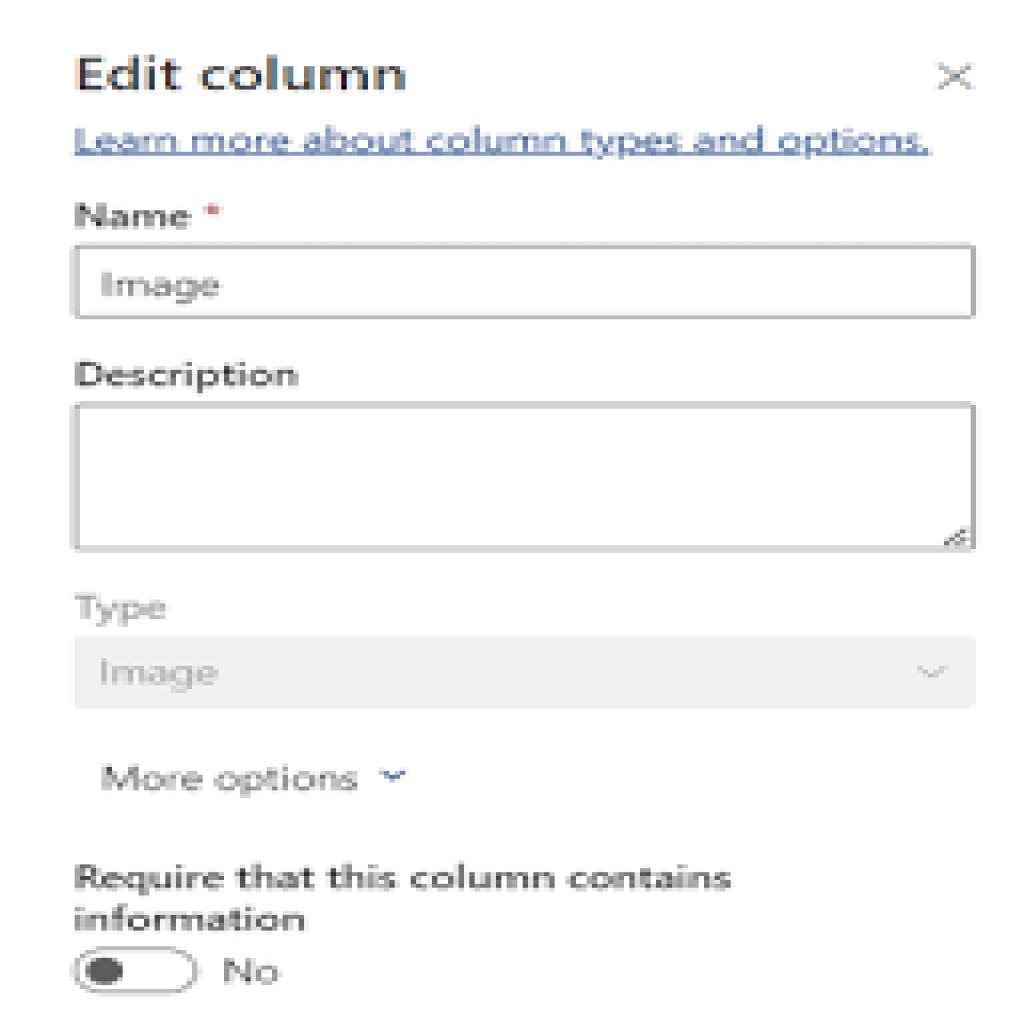dropdown: (72, 637, 976, 712)
input: (80, 249, 972, 320)
label: (74, 852, 744, 932), (74, 40, 409, 94), (71, 355, 306, 393), (70, 195, 220, 235), (74, 589, 181, 629), (219, 950, 284, 989)
switch: (76, 946, 208, 1004)
